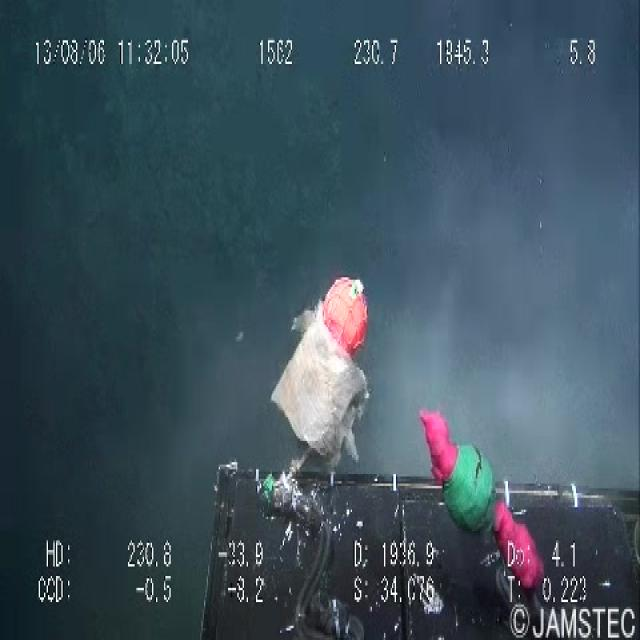plastic: (263, 280, 393, 467)
